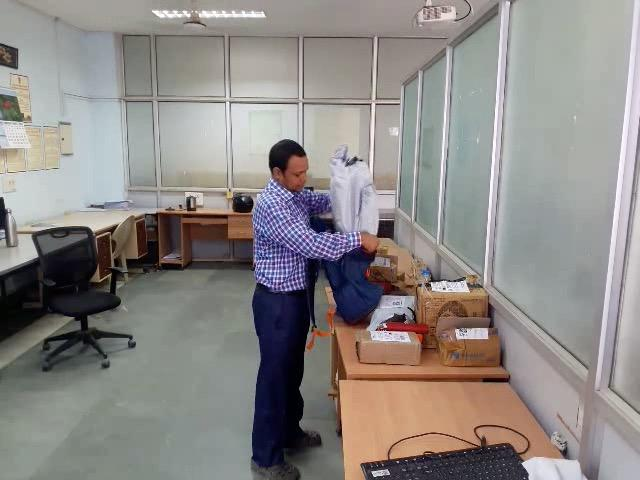shoplifting: (211, 122, 441, 321)
